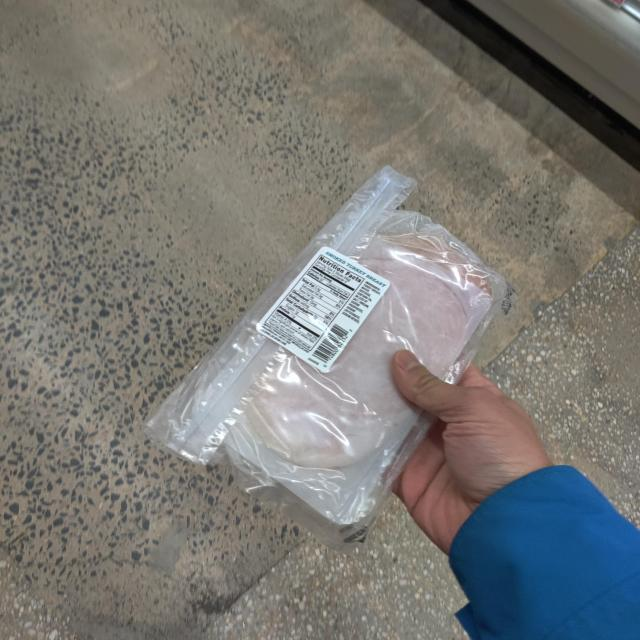Meat: (146, 164, 514, 549)
